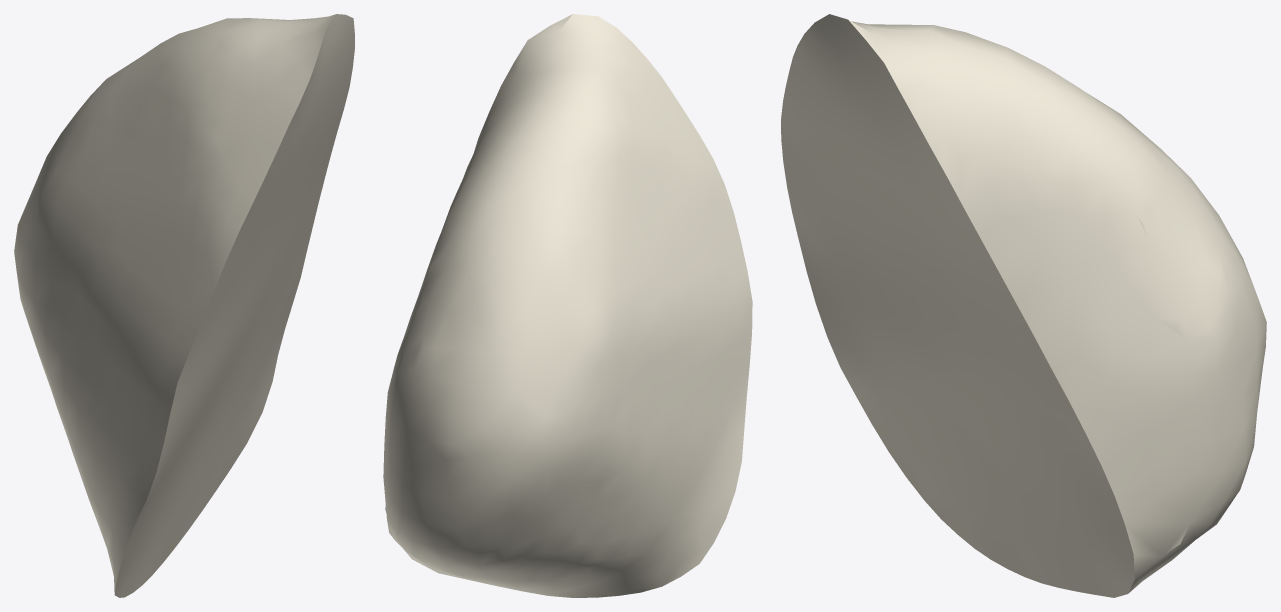
The model's file is fma16322_mm2349m.glb.
The picture shows the model from 3 angles, left to right: view 1: azimuth 30°, elevation 25°; view 2: azimuth 150°, elevation 25°; view 3: azimuth 270°, elevation 25°; orthographic projection. The views are drawn at different scales.
Visible parts, largest first — view 1: FMA16322_MM2349M; view 2: FMA16322_MM2349M; view 3: FMA16322_MM2349M.
Boxes of the visible parts, box(x1,y1,x2,y2) form: FMA16322_MM2349M: box(14, 14, 354, 597); FMA16322_MM2349M: box(383, 14, 752, 597); FMA16322_MM2349M: box(781, 14, 1266, 597).
Bounding box in the file's own units: 0.00536 × 0.0108 × 0.00789.
